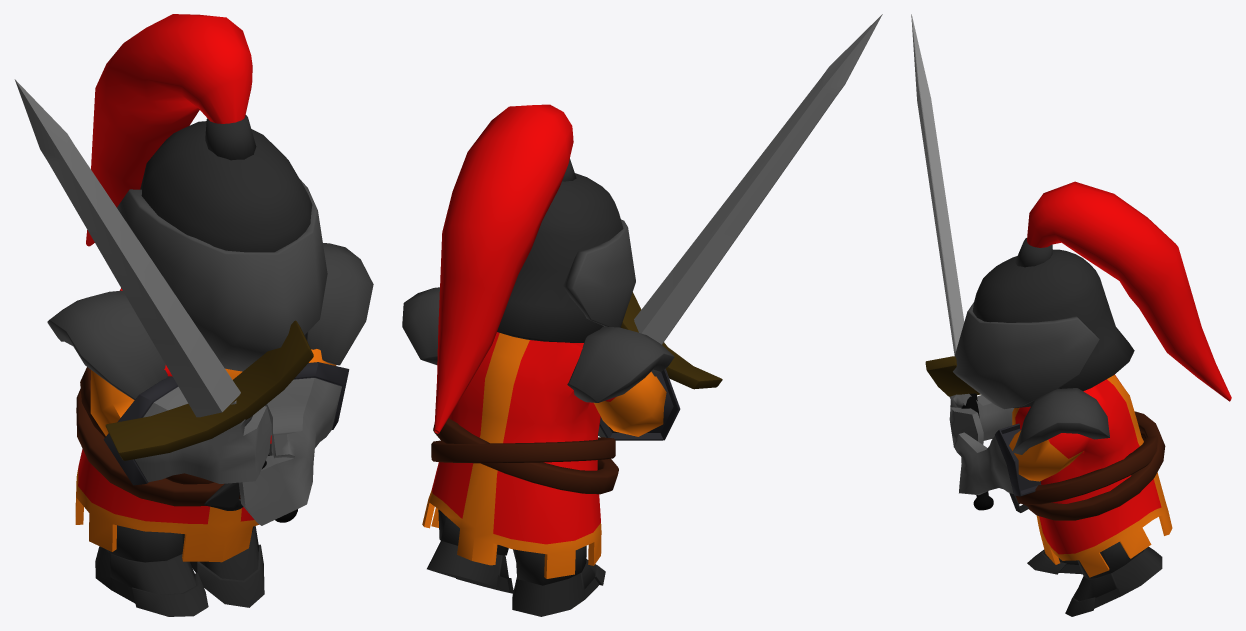
File: RedTeam_TwoHandSwordsMen_Unit.obj
3 renders of one model, left to right at view 1: azimuth 30°, elevation 25°; view 2: azimuth 150°, elevation 25°; view 3: azimuth 270°, elevation 25°, orthographic. The views are drawn at different scales.
Parts seen in each view (by area): view 1: RedTeam_TwoHandSwordsMen_Helmet_Cylinder.007, RedTeam_TwoHandSwordsMen_Armor_Cube.001, TwoHand_Sword_Iron_Cylinder.001, RedTeam_SwordsMen_Shoulders.R_Cylinder.010, BlueTeam_SwordsMen_Belt_Cylinder.002, RedTeam_SwordsMen_Shoulders.L_Cylinder.003; view 2: RedTeam_TwoHandSwordsMen_Helmet_Cylinder.007, RedTeam_TwoHandSwordsMen_Armor_Cube.001, TwoHand_Sword_Iron_Cylinder.001, BlueTeam_SwordsMen_Belt_Cylinder.002, RedTeam_SwordsMen_Shoulders.R_Cylinder.010, RedTeam_SwordsMen_Shoulders.L_Cylinder.003; view 3: RedTeam_TwoHandSwordsMen_Helmet_Cylinder.007, RedTeam_TwoHandSwordsMen_Armor_Cube.001, TwoHand_Sword_Iron_Cylinder.001, BlueTeam_SwordsMen_Belt_Cylinder.002, RedTeam_SwordsMen_Shoulders.L_Cylinder.003.
Part boxes in pixels (bbox=[...]): RedTeam_TwoHandSwordsMen_Helmet_Cylinder.007: bbox=[86, 14, 327, 371]; RedTeam_TwoHandSwordsMen_Armor_Cube.001: bbox=[75, 288, 349, 616]; TwoHand_Sword_Iron_Cylinder.001: bbox=[14, 79, 313, 522]; RedTeam_SwordsMen_Shoulders.R_Cylinder.010: bbox=[47, 290, 167, 399]; BlueTeam_SwordsMen_Belt_Cylinder.002: bbox=[76, 367, 272, 510]; RedTeam_SwordsMen_Shoulders.L_Cylinder.003: bbox=[304, 243, 373, 365]; RedTeam_TwoHandSwordsMen_Helmet_Cylinder.007: bbox=[434, 104, 635, 433]; RedTeam_TwoHandSwordsMen_Armor_Cube.001: bbox=[422, 332, 680, 616]; TwoHand_Sword_Iron_Cylinder.001: bbox=[621, 14, 882, 389]; BlueTeam_SwordsMen_Belt_Cylinder.002: bbox=[431, 418, 618, 494]; RedTeam_SwordsMen_Shoulders.R_Cylinder.010: bbox=[567, 326, 674, 402]; RedTeam_SwordsMen_Shoulders.L_Cylinder.003: bbox=[402, 287, 439, 364]; RedTeam_TwoHandSwordsMen_Helmet_Cylinder.007: bbox=[953, 181, 1231, 409]; RedTeam_TwoHandSwordsMen_Armor_Cube.001: bbox=[949, 374, 1172, 616]; TwoHand_Sword_Iron_Cylinder.001: bbox=[911, 14, 993, 510]; BlueTeam_SwordsMen_Belt_Cylinder.002: bbox=[1009, 411, 1165, 520]; RedTeam_SwordsMen_Shoulders.L_Cylinder.003: bbox=[1012, 388, 1109, 454].
Bounding box in the file's own units: 1.65 × 2.42 × 1.46.
